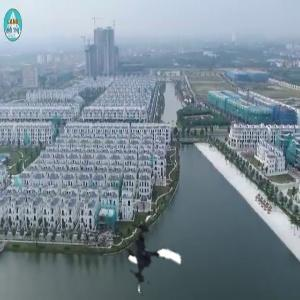drone: (110, 217, 189, 296)
